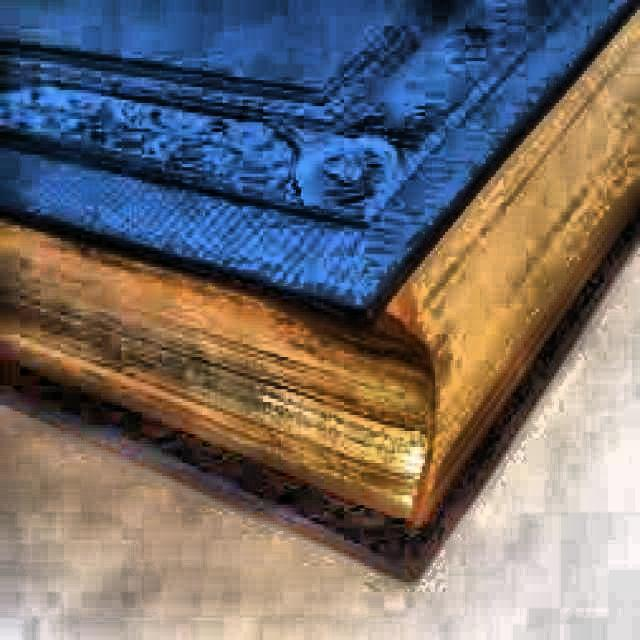Paper: (0, 0, 637, 579)
